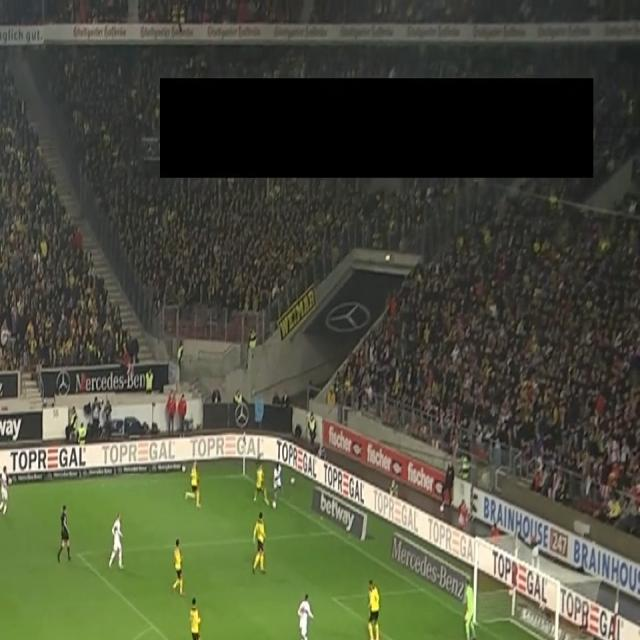ball: (271, 500, 277, 510)
